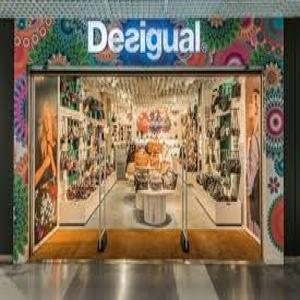desigual: (82, 16, 204, 64)
